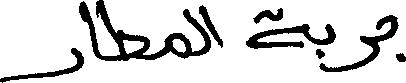X: (0, 0, 81, 82), (100, 0, 148, 65), (248, 3, 305, 53), (345, 20, 376, 75), (378, 10, 405, 66), (167, 4, 188, 63), (190, 0, 208, 60), (83, 0, 98, 68), (210, 15, 221, 52), (326, 19, 333, 76)
